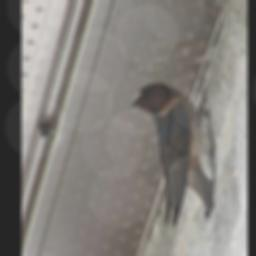Swallow: (132, 82, 218, 226)
